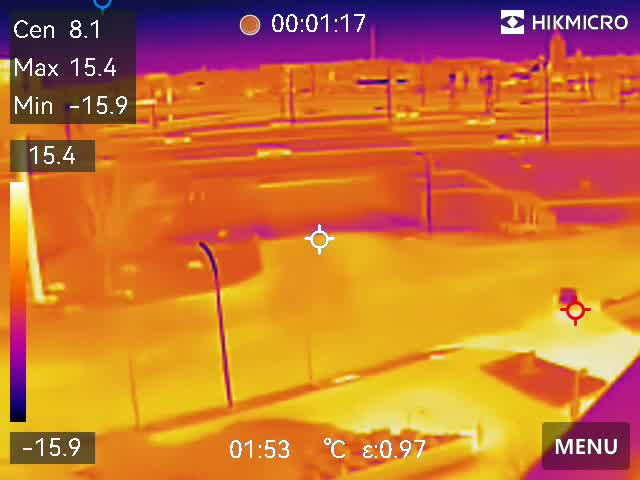vehicle: (551, 284, 586, 320), (255, 143, 299, 163), (390, 103, 426, 122), (459, 113, 500, 129), (159, 130, 193, 148), (515, 126, 545, 142), (491, 133, 527, 146)
